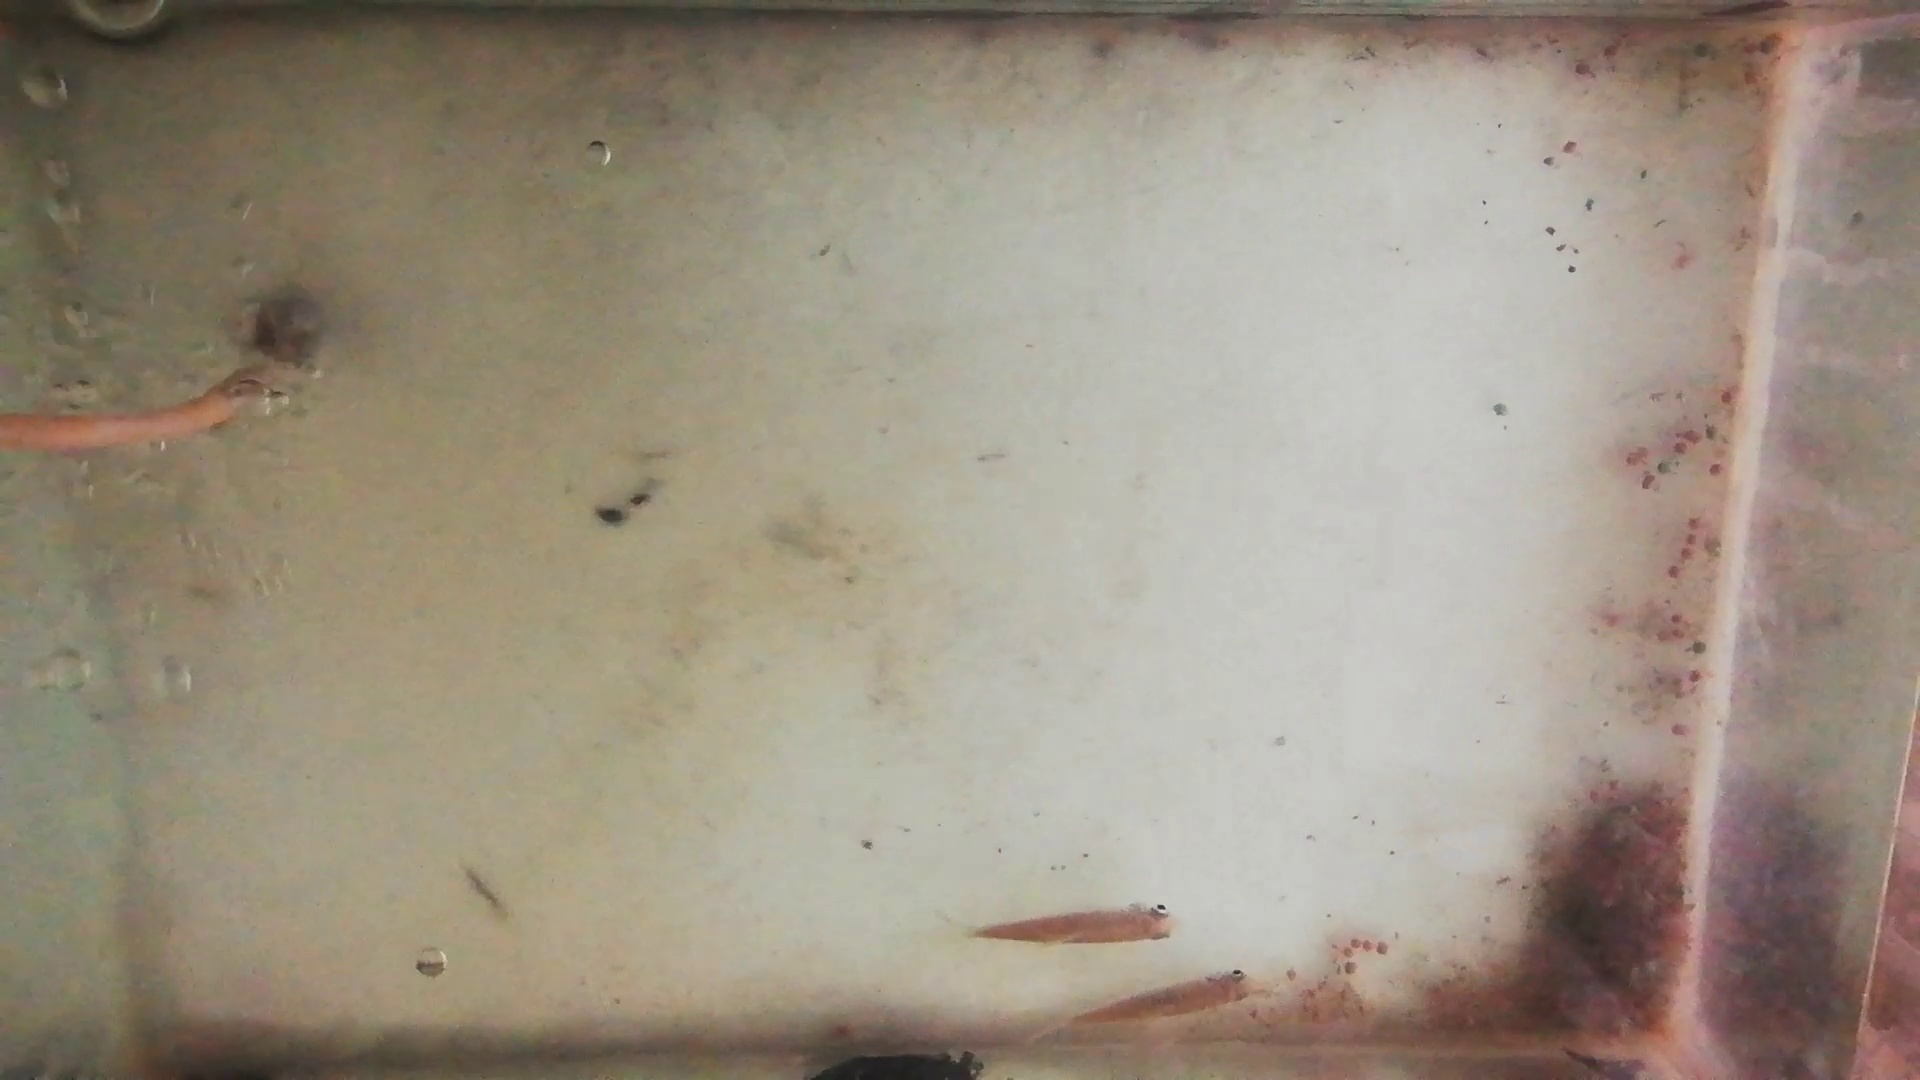fish: (1069, 969, 1258, 1025), (968, 905, 1179, 947)
